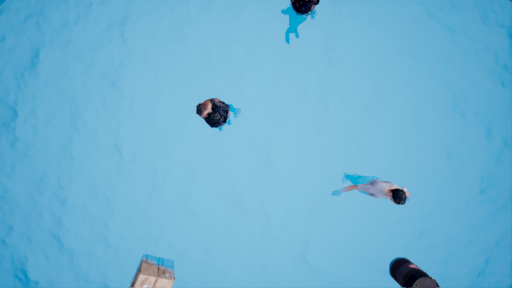person: (327, 167, 411, 210), (193, 94, 244, 131)
